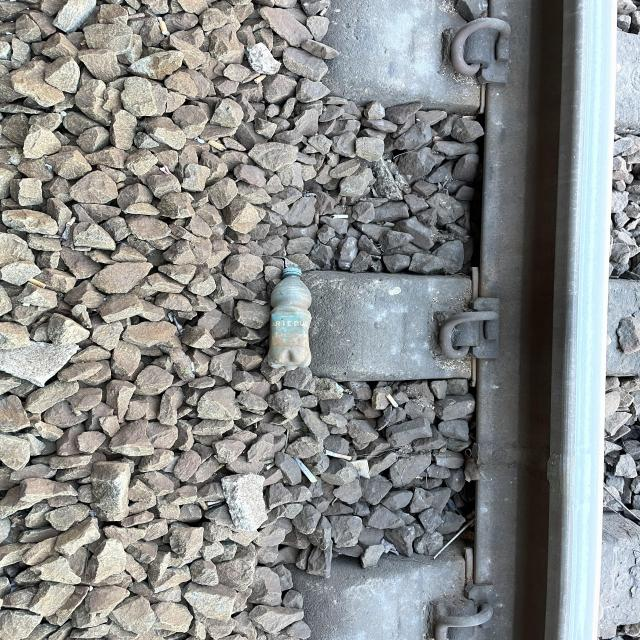litter: (267, 267, 311, 370), (295, 457, 317, 482), (323, 449, 352, 461), (206, 140, 226, 150), (386, 393, 399, 407), (28, 278, 46, 288), (69, 405, 82, 416), (159, 19, 167, 34), (254, 74, 266, 84), (206, 499, 224, 505), (262, 463, 275, 470), (331, 214, 348, 219), (225, 235, 234, 243), (313, 213, 320, 223), (383, 221, 394, 227), (302, 193, 317, 196)
